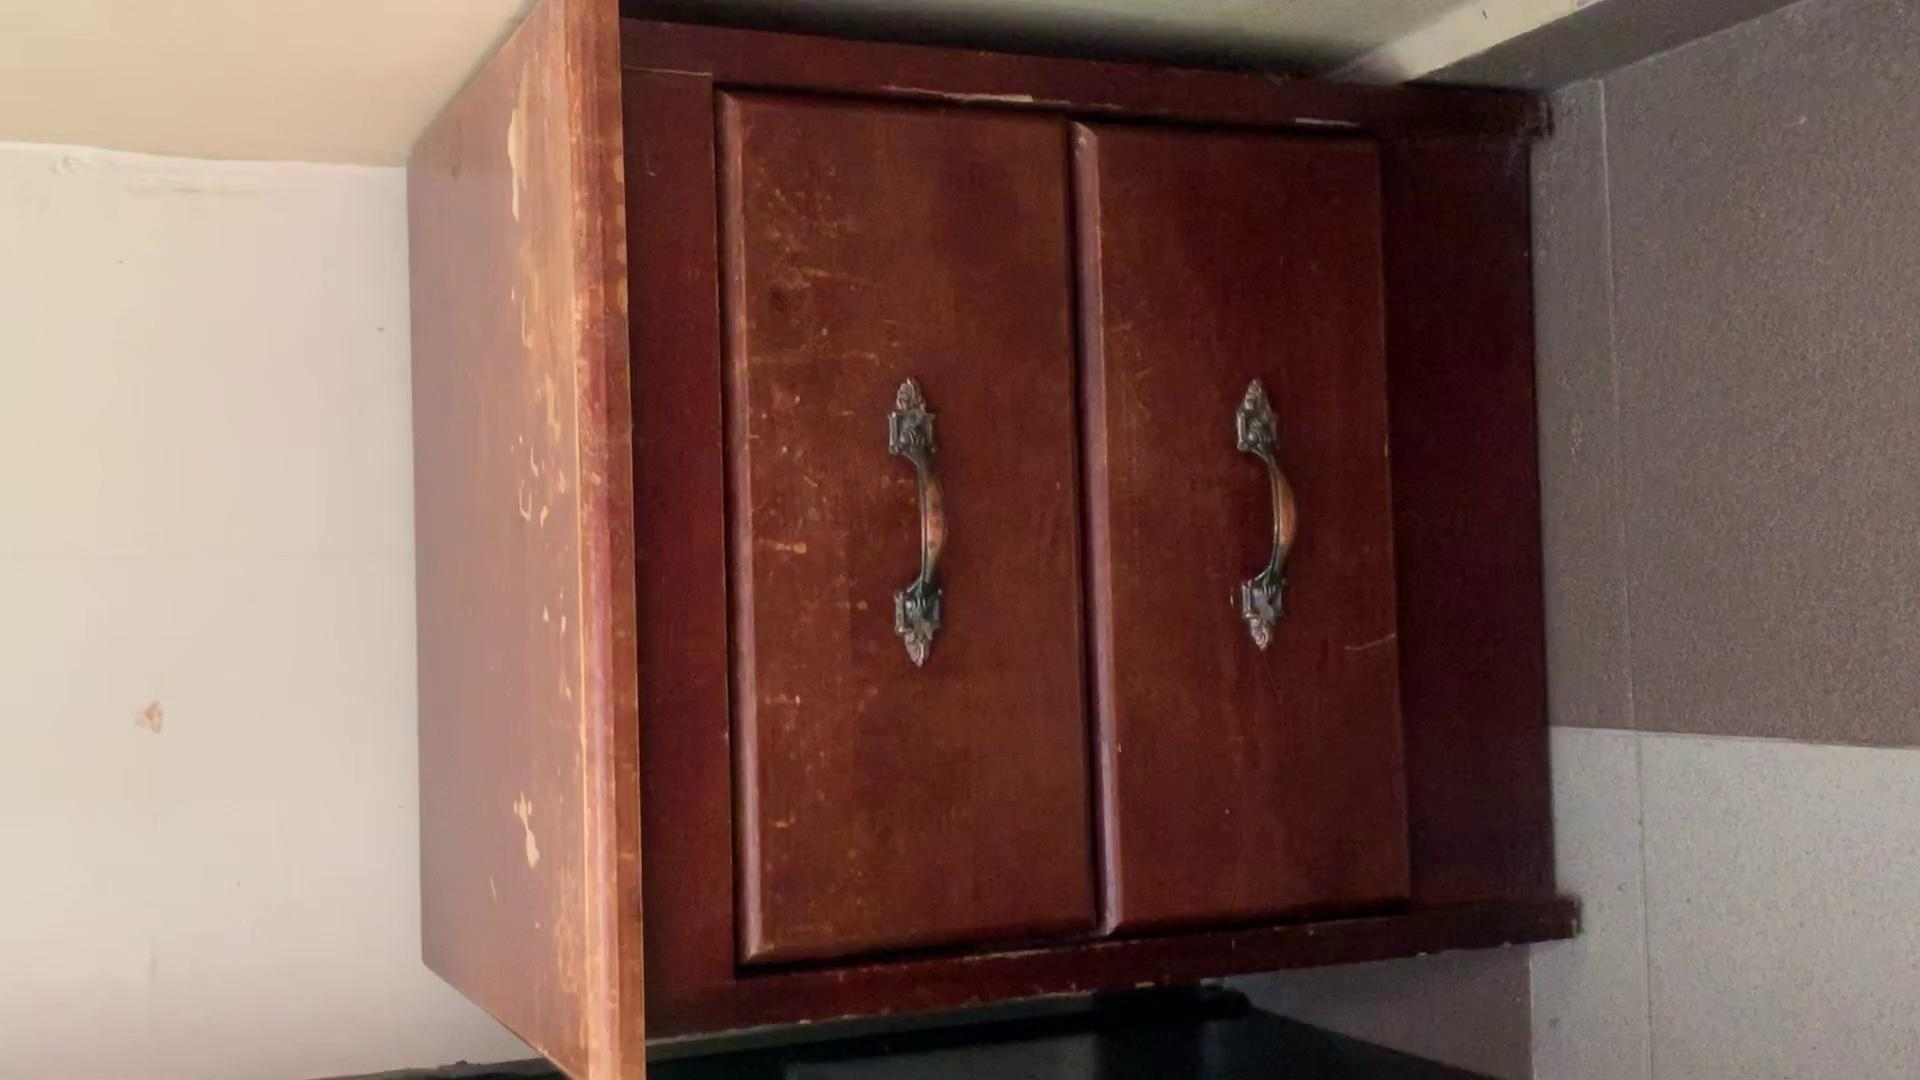cabinet_door: (713, 108, 1095, 943), (1100, 133, 1382, 915)
handle: (882, 365, 959, 676), (1230, 380, 1307, 637)
